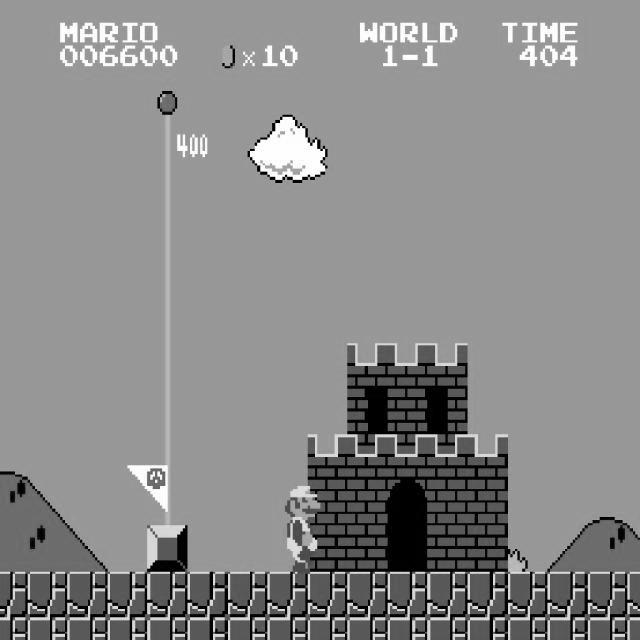1- brick_block: (427, 526, 468, 572)
17- undestructible_block: (27, 572, 68, 618), (67, 572, 108, 618), (107, 572, 148, 618), (147, 572, 188, 618), (187, 572, 228, 618), (227, 572, 268, 618), (267, 572, 308, 618), (307, 572, 348, 618), (347, 572, 388, 618), (387, 572, 428, 618), (427, 572, 468, 618), (467, 572, 508, 618), (507, 572, 548, 618), (547, 572, 588, 618), (587, 572, 628, 618), (0, 572, 28, 618), (27, 617, 68, 640), (67, 617, 108, 640), (107, 617, 148, 640), (147, 617, 188, 640), (187, 617, 228, 640), (227, 617, 268, 640), (267, 617, 308, 640), (307, 617, 348, 640), (347, 617, 388, 640), (387, 617, 428, 640), (427, 617, 468, 640), (467, 617, 508, 640), (507, 617, 548, 640), (547, 617, 588, 640), (587, 617, 628, 640), (0, 617, 28, 640), (627, 572, 640, 618), (627, 617, 640, 640)
7- goal_pole: (147, 68, 188, 114), (147, 114, 188, 160), (147, 160, 188, 206), (147, 252, 188, 298), (147, 297, 188, 343), (147, 388, 188, 434), (147, 434, 188, 480), (147, 480, 188, 526), (147, 206, 188, 251), (147, 343, 188, 388)
9- hard_block: (147, 526, 188, 572)
